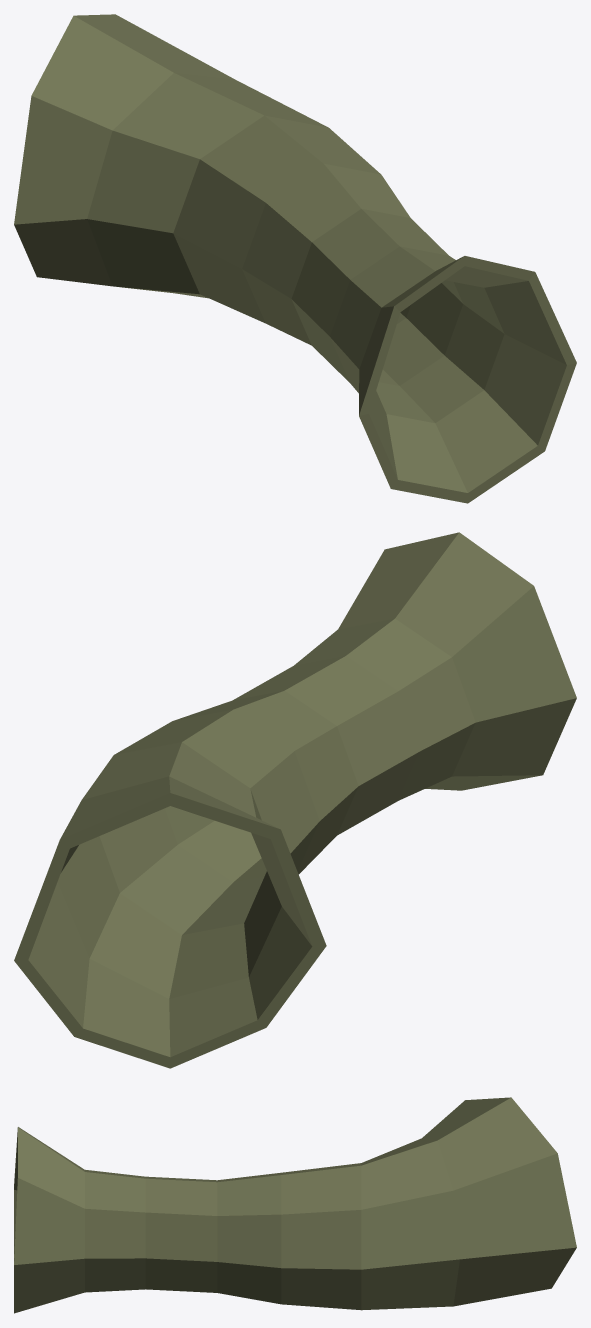
File: Portal_coral_textured.fbx
The picture shows the model from 3 angles, top to bottom: view 1: azimuth 30°, elevation 25°; view 2: azimuth 150°, elevation 25°; view 3: azimuth 270°, elevation 25°; orthographic projection. The views are drawn at different scales.
Parts seen in each view (by area): view 1: Cube.001; view 2: Cube.001; view 3: Cube.001.
Part boxes in pixels (bbox=[...]): Cube.001: bbox=[14, 14, 576, 503]; Cube.001: bbox=[14, 532, 576, 1068]; Cube.001: bbox=[14, 1097, 576, 1313].
Size of the model in its own units: 444 by 388 by 1022.
